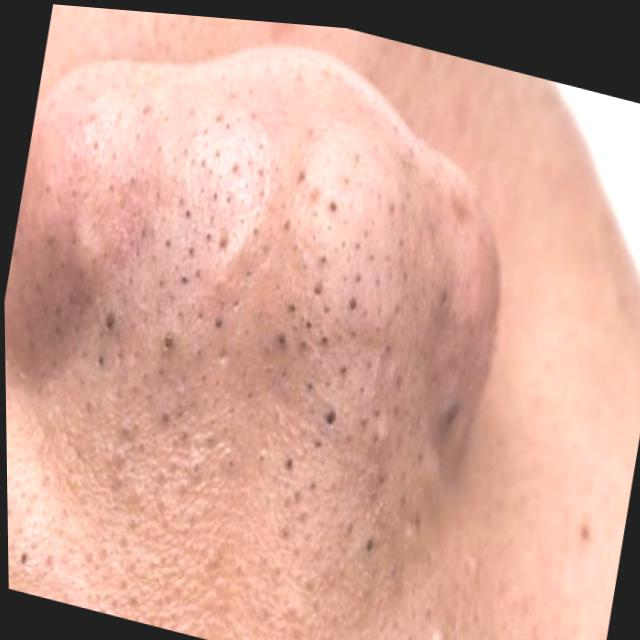blackhead: (35, 92, 403, 536)
